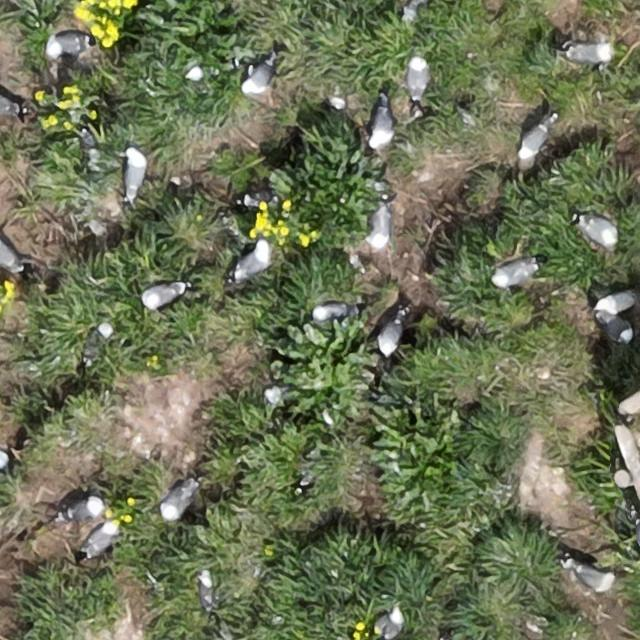umineko: (235, 243, 269, 276), (160, 485, 193, 519), (518, 123, 548, 157), (580, 218, 616, 246), (90, 321, 112, 366), (572, 565, 609, 591), (495, 261, 534, 285), (86, 524, 116, 554), (378, 317, 402, 354), (566, 44, 610, 64), (246, 60, 274, 91), (125, 151, 145, 194), (143, 285, 182, 307), (46, 35, 86, 56), (406, 56, 427, 96), (372, 103, 392, 145), (181, 62, 219, 84), (602, 316, 632, 343), (67, 499, 102, 520), (600, 292, 636, 312), (0, 238, 21, 270), (314, 303, 346, 321), (380, 610, 402, 636), (198, 574, 213, 608), (1, 94, 18, 116), (404, 0, 429, 13), (0, 446, 7, 472)
